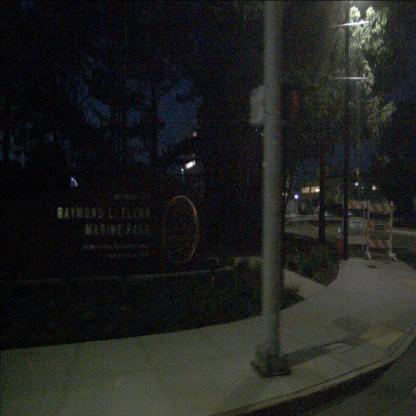movable_object-trafficcone: (336, 225, 342, 256)
